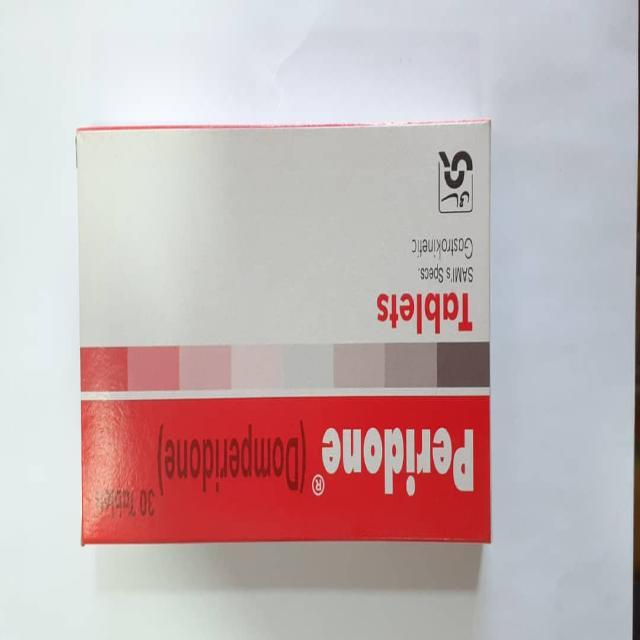drug-name: (306, 420, 481, 504)
